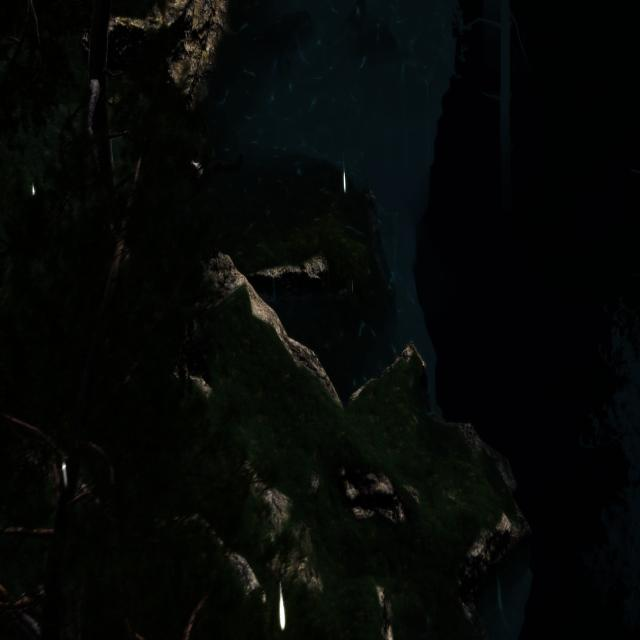Human: (173, 111, 249, 193)
